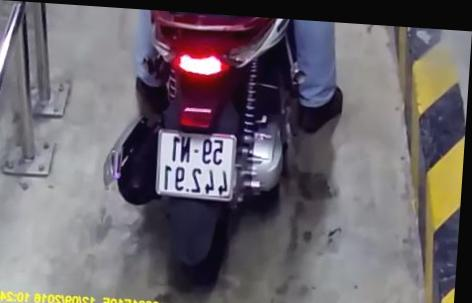License_Plate: (144, 123, 244, 208)
